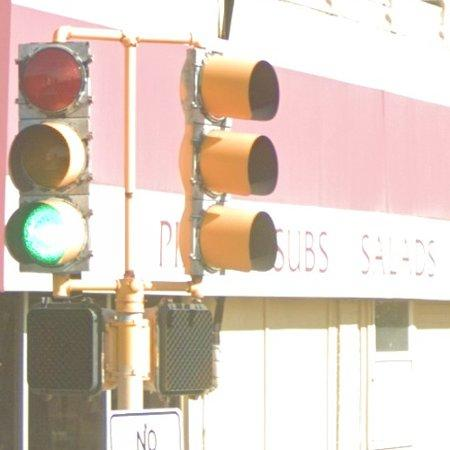traffic lights: (178, 47, 282, 277), (6, 40, 91, 275)
